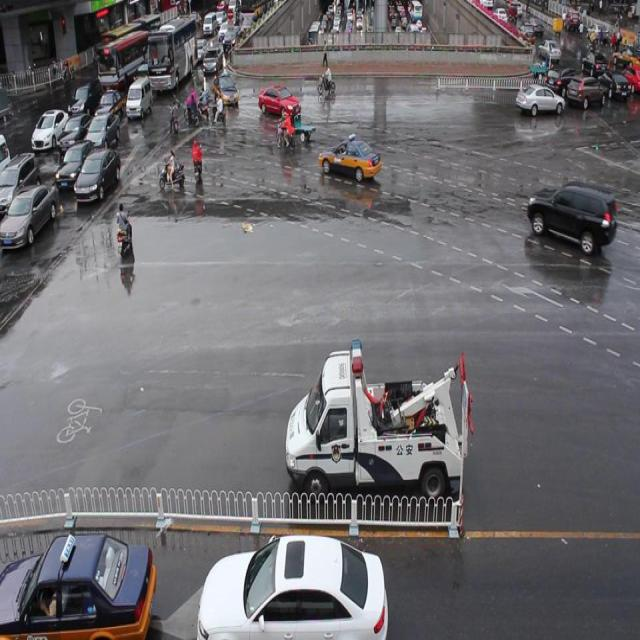bus: (285, 338, 464, 498)
car: (317, 136, 380, 182), (514, 82, 564, 117), (258, 83, 300, 120), (213, 73, 239, 108)
truck: (526, 179, 614, 254)
